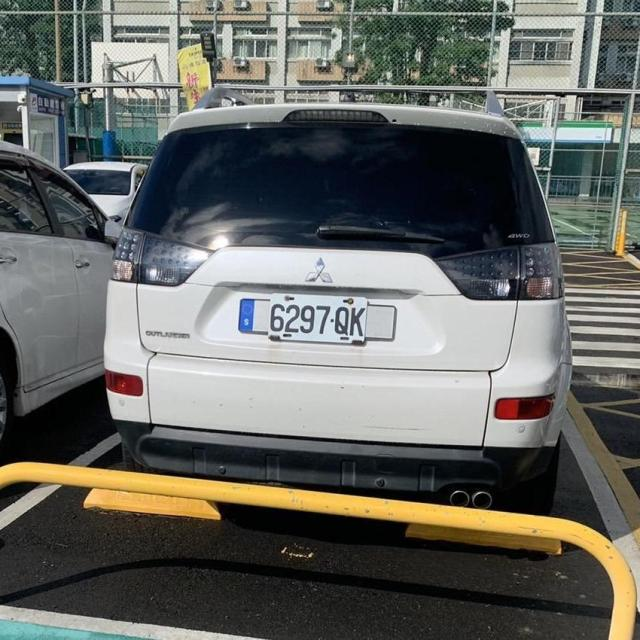W: (264, 281, 373, 351)
